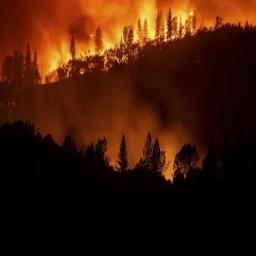Heavy smoke: (0, 0, 224, 189)
Medium fire: (7, 0, 218, 86)
